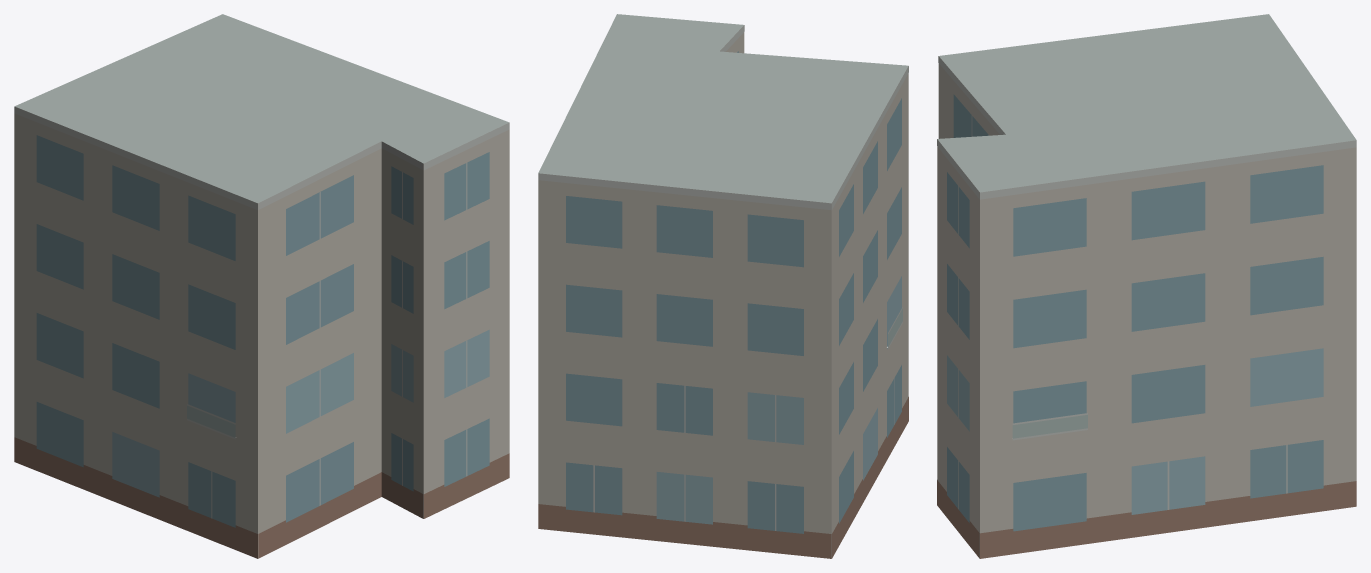
File: survey-upis-32858246.glb
The picture shows the model from 3 angles, left to right: view 1: azimuth 30°, elevation 25°; view 2: azimuth 150°, elevation 25°; view 3: azimuth 270°, elevation 25°; orthographic projection. The views are drawn at different scales.
Visible parts, largest first — view 1: survey-upis-32858246.tmp; view 2: survey-upis-32858246.tmp; view 3: survey-upis-32858246.tmp.
Boxes of the visible parts, bbox=[...] form: survey-upis-32858246.tmp: bbox=[14, 14, 509, 558]; survey-upis-32858246.tmp: bbox=[538, 14, 908, 558]; survey-upis-32858246.tmp: bbox=[937, 14, 1356, 558].
Size of the model in its own units: 13.18 by 12.6 by 13.09.
